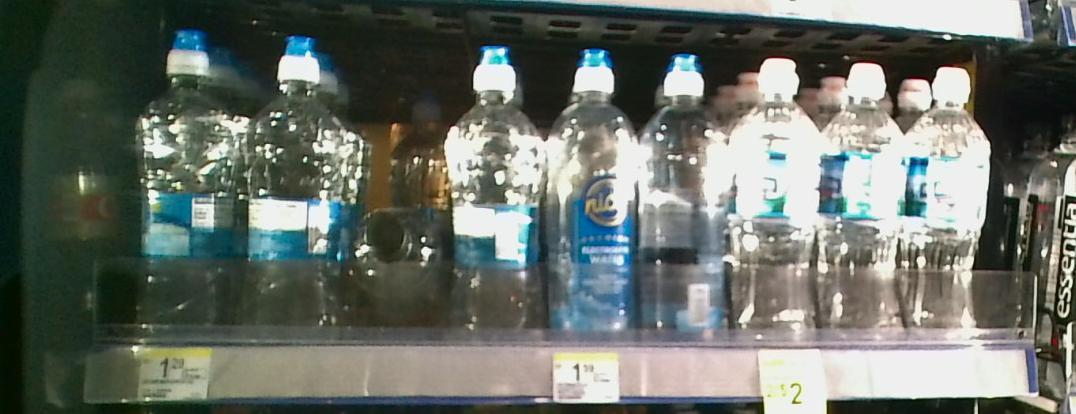bottle: (131, 24, 232, 327), (448, 25, 541, 335), (549, 49, 644, 345), (249, 23, 335, 339), (825, 49, 907, 358), (734, 50, 818, 338), (911, 64, 990, 344), (652, 49, 727, 334), (352, 199, 437, 325)
